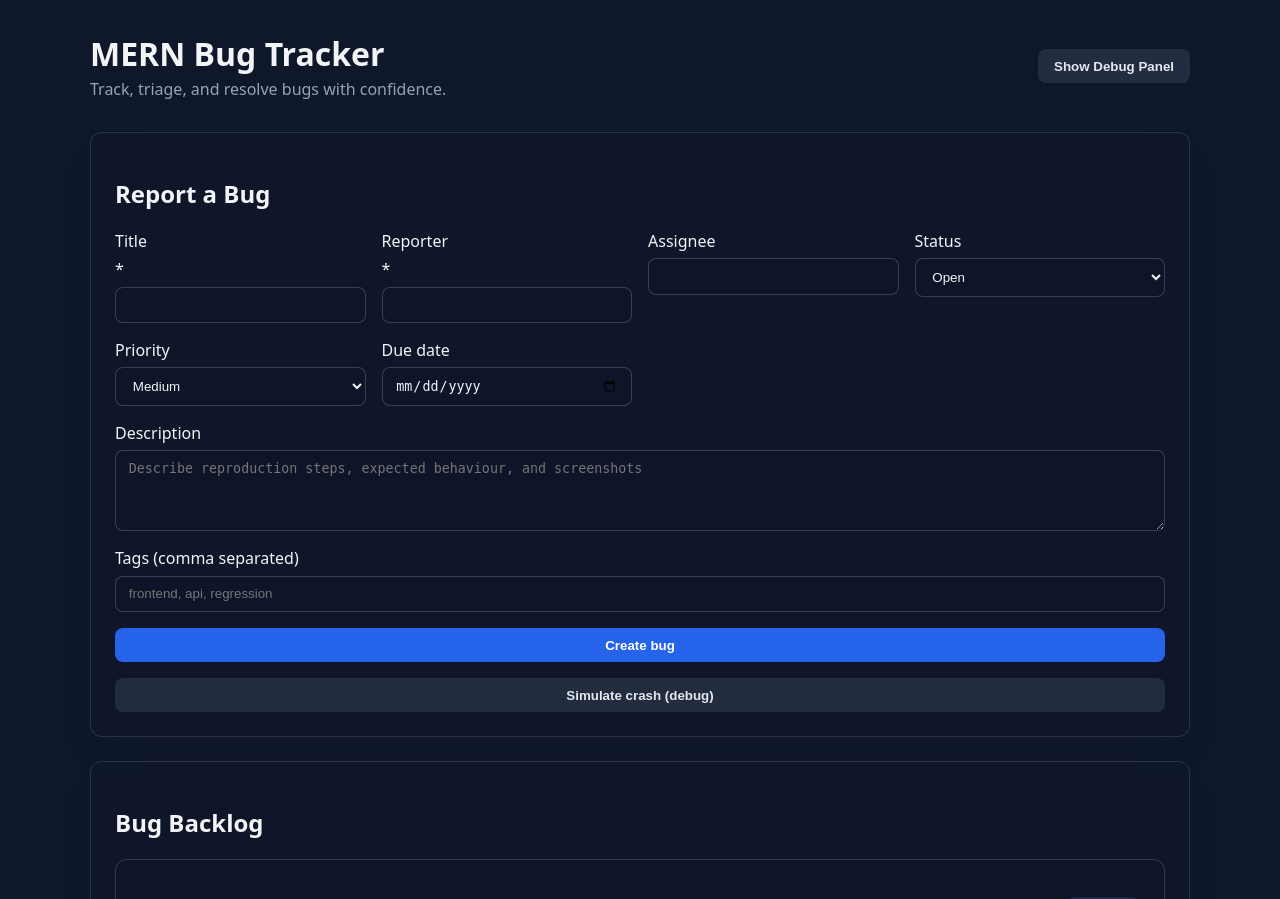
Test: App integration › allows toggling the debug panel
Click the button "Show Debug Panel": (1114, 66) [1038, 49, 1190, 83]
(page scrolled)
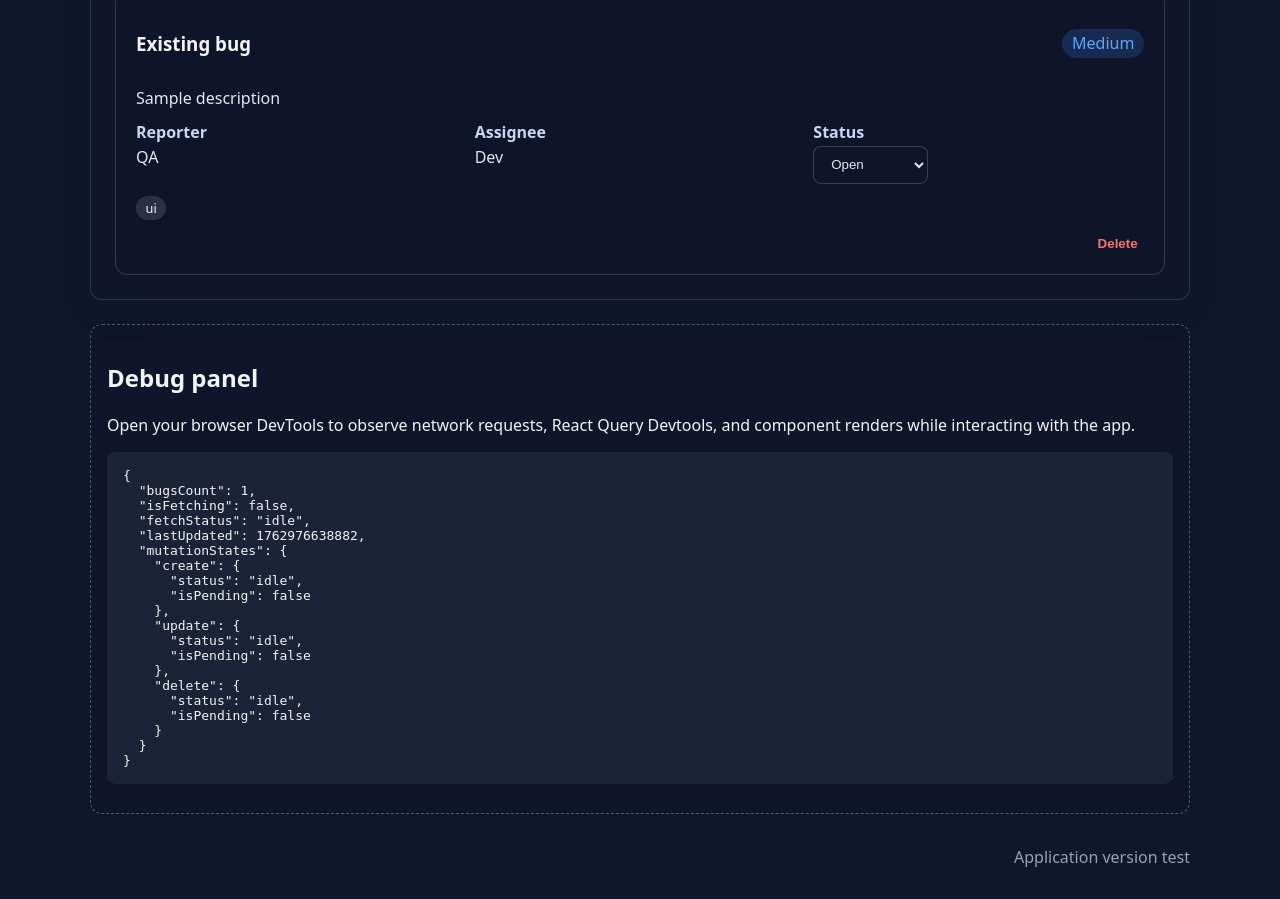
Now the element with test id "debug-panel" is shown, box [90, 324, 1190, 814]
